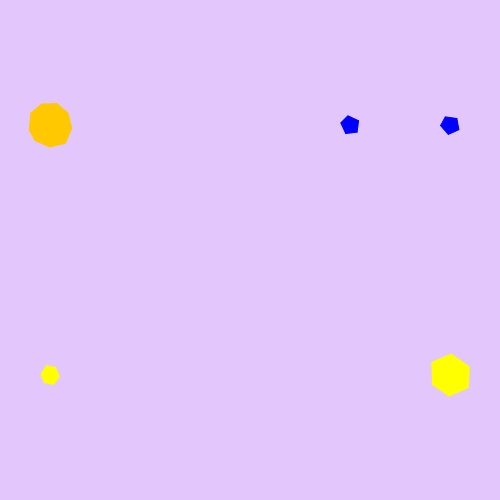hexagon: (424, 353, 476, 397), (35, 362, 65, 388)
nonagon: (24, 100, 77, 151)
pentagon: (336, 111, 364, 139), (436, 111, 464, 139)
